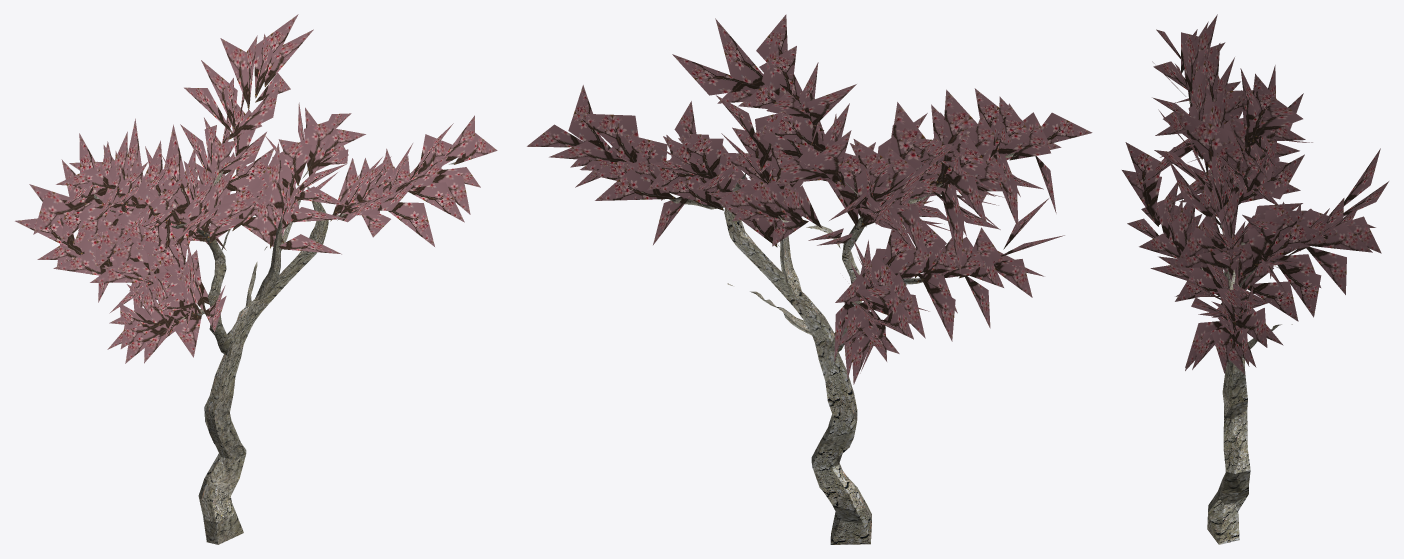
The model's file is Sakura.FBX.
3 renders of one model, left to right at view 1: azimuth 30°, elevation 25°; view 2: azimuth 150°, elevation 25°; view 3: azimuth 270°, elevation 25°, orthographic. The views are drawn at different scales.
Visible parts, largest first — view 1: Loft002; view 2: Loft002; view 3: Loft002.
Boxes of the visible parts, box(x1,y1,x2,y2) form: Loft002: box(15, 14, 497, 544); Loft002: box(527, 14, 1092, 544); Loft002: box(1122, 14, 1388, 544).
Bounding box in the file's own units: 475 × 457 × 225.
Materials: 1 (1 with a texture image).
